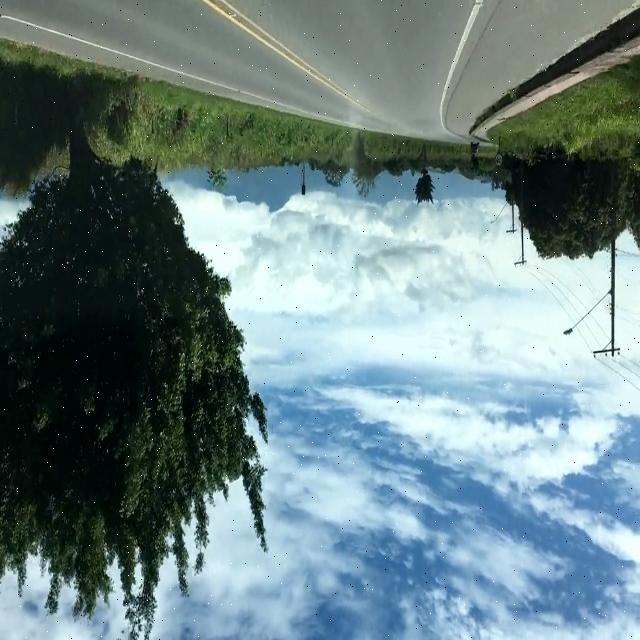lane: (0, 13, 281, 103), (204, 1, 371, 112), (440, 1, 482, 134)
road: (0, 0, 639, 142)
